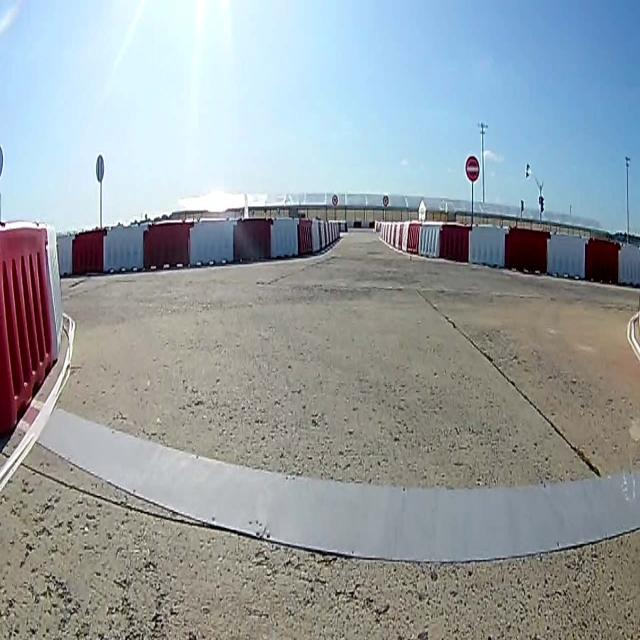girisyok: (463, 152, 481, 183)
